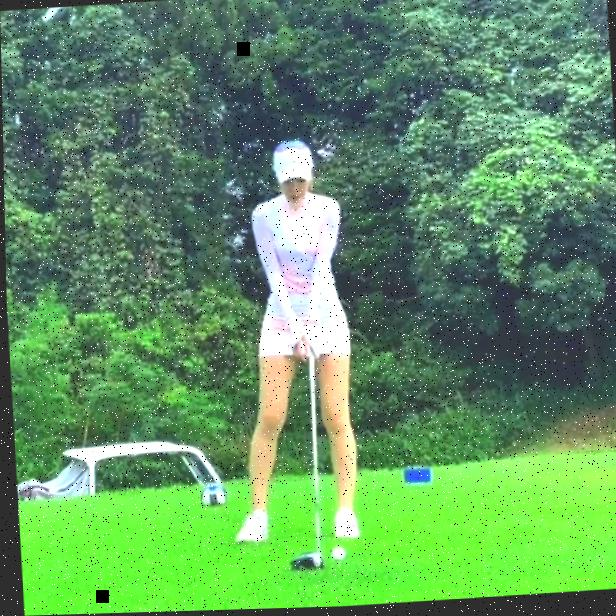ClubHead: (285, 553, 322, 576)
GolfBall: (327, 547, 343, 564)
